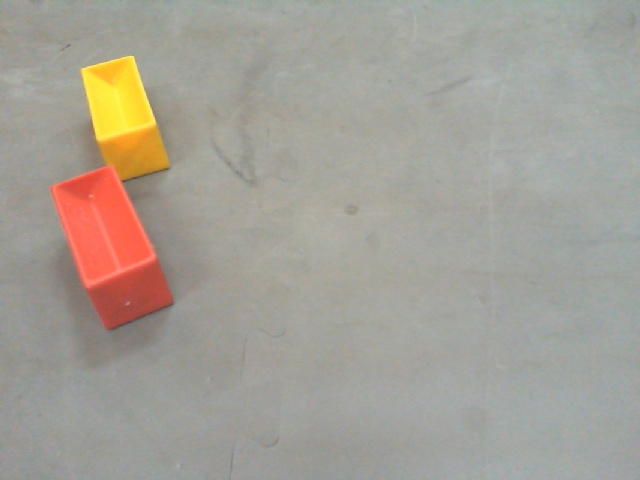RedSample: (46, 163, 176, 333)
YellowSample: (81, 51, 173, 182)
